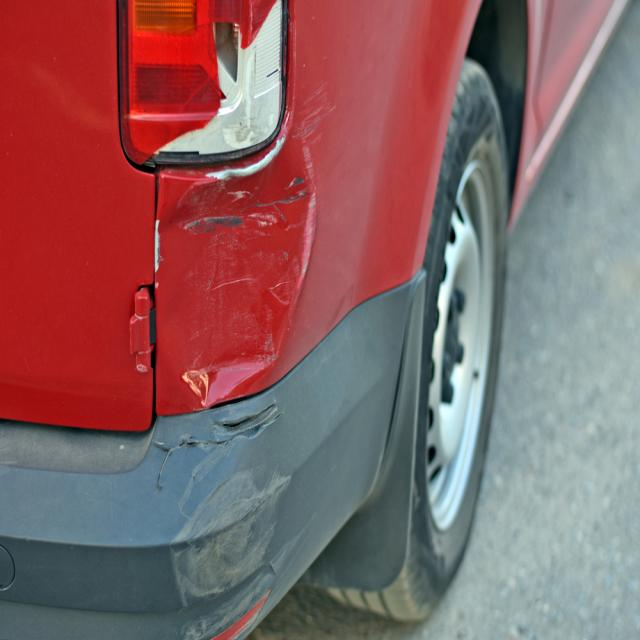crack: (156, 401, 284, 490)
dent: (158, 126, 315, 398)
lamp broken: (119, 0, 285, 171)
scratch: (156, 434, 316, 640)
